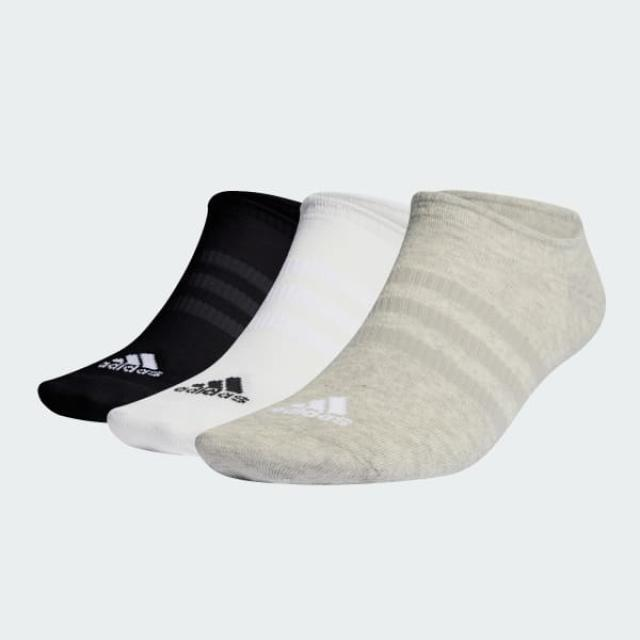sock: (193, 188, 606, 485), (106, 189, 410, 455), (36, 188, 301, 423)
